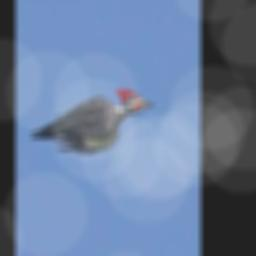Woodpecker: (29, 87, 155, 153)
